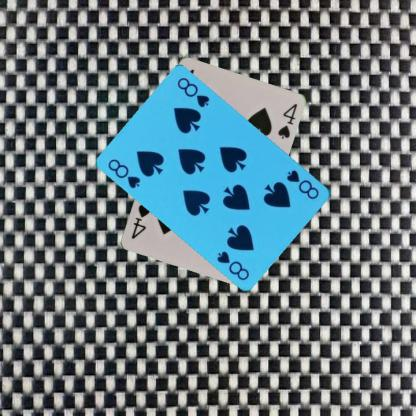8s: (106, 156, 142, 190), (284, 167, 321, 200)
